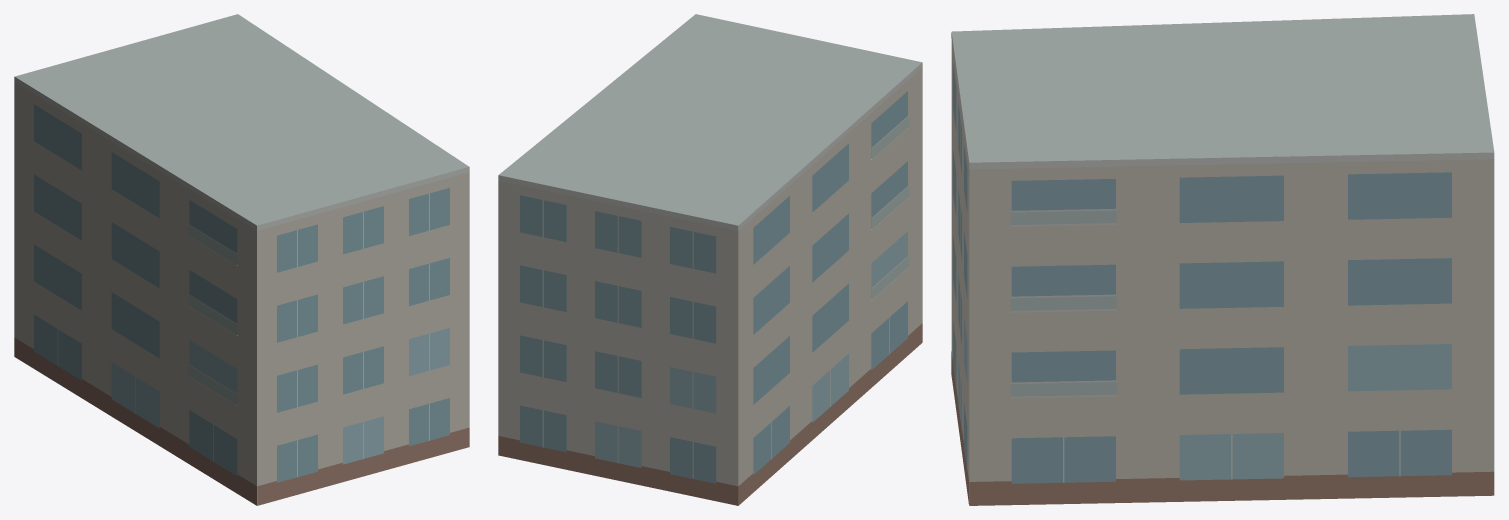
The model's file is survey-upis-32744395.glb.
3 views of the same model, side by side, from view 1: azimuth 30°, elevation 25°; view 2: azimuth 150°, elevation 25°; view 3: azimuth 270°, elevation 25° (orthographic). The views are drawn at different scales.
Parts seen in each view (by area): view 1: survey-upis-32744395.tmp; view 2: survey-upis-32744395.tmp; view 3: survey-upis-32744395.tmp.
Boxes of the visible parts, bbox=[...] form: survey-upis-32744395.tmp: bbox=[14, 14, 469, 505]; survey-upis-32744395.tmp: bbox=[498, 14, 922, 505]; survey-upis-32744395.tmp: bbox=[951, 14, 1494, 505].
Size of the model in its own units: 11.9 by 12.8 by 18.36.
